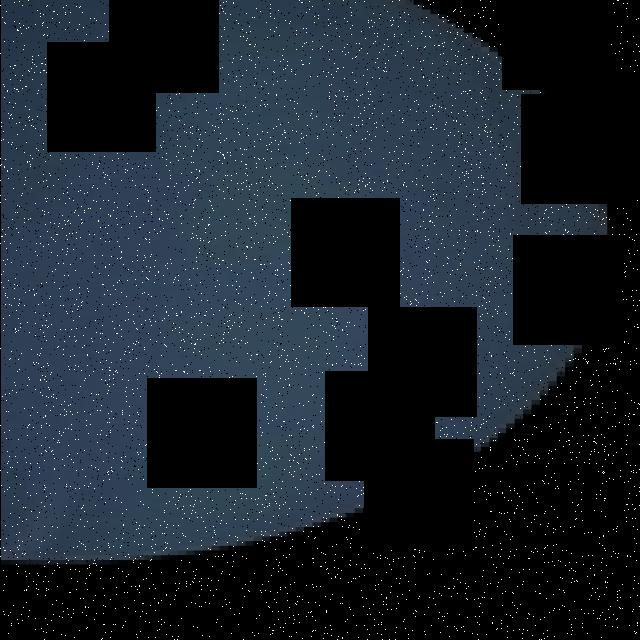Uranus: (0, 0, 606, 564)
